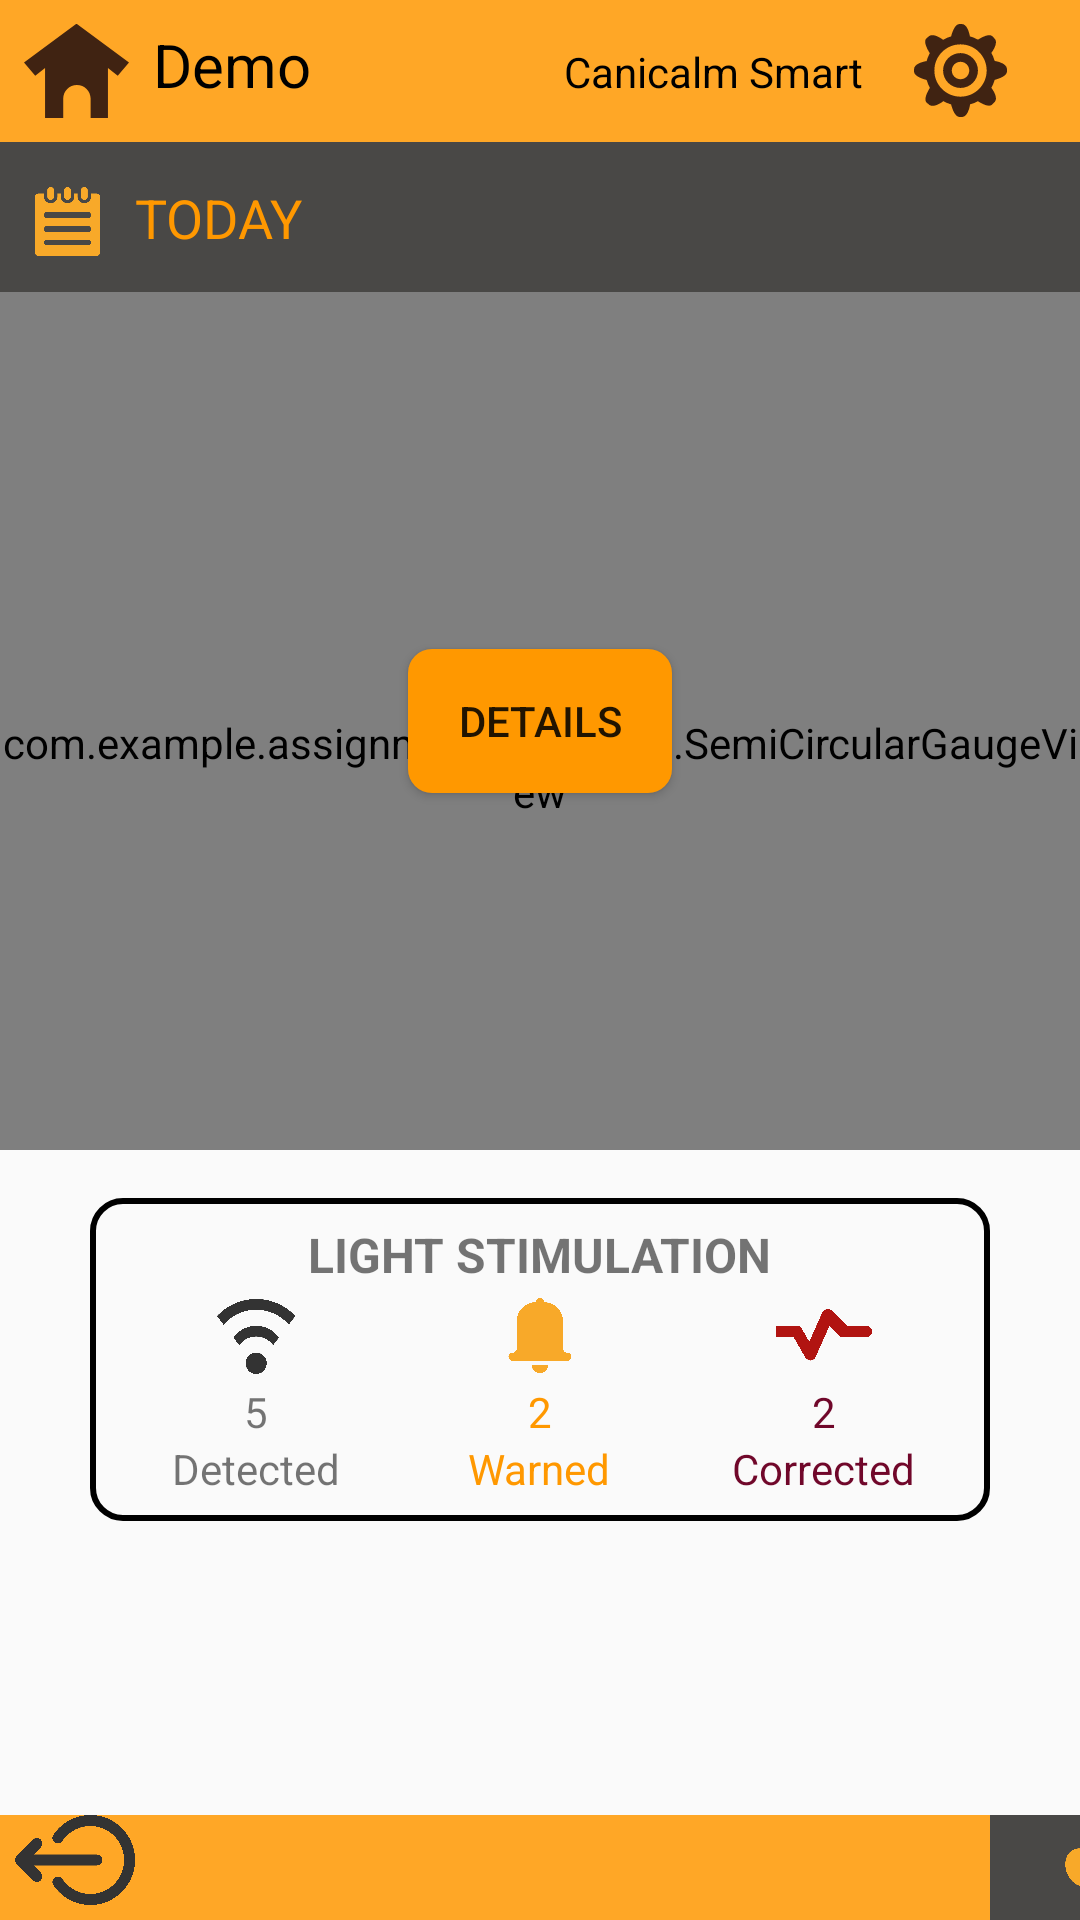

Locate icon controls on the screen. Image size 1080x1920, boxes as detection(x1, y1, x2, y2).
home: detection(24, 24, 129, 118)
out: detection(15, 1815, 135, 1905)
param: detection(914, 24, 1007, 117)
